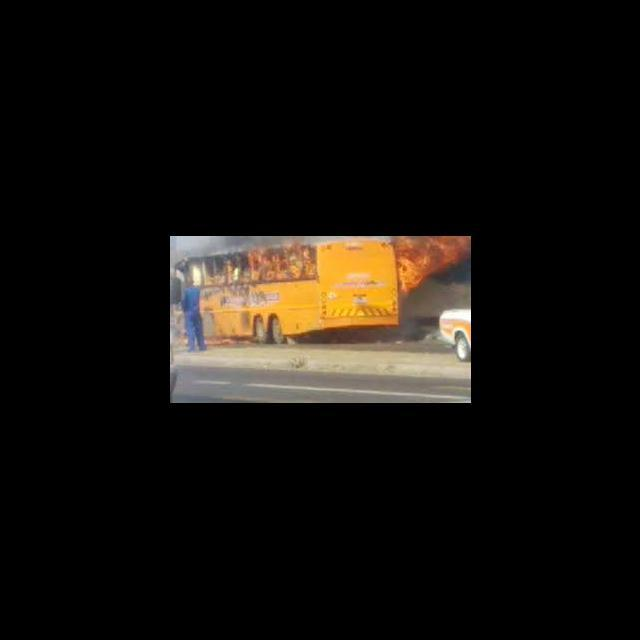Fire: (396, 237, 470, 296), (250, 245, 316, 282), (184, 336, 238, 347)
